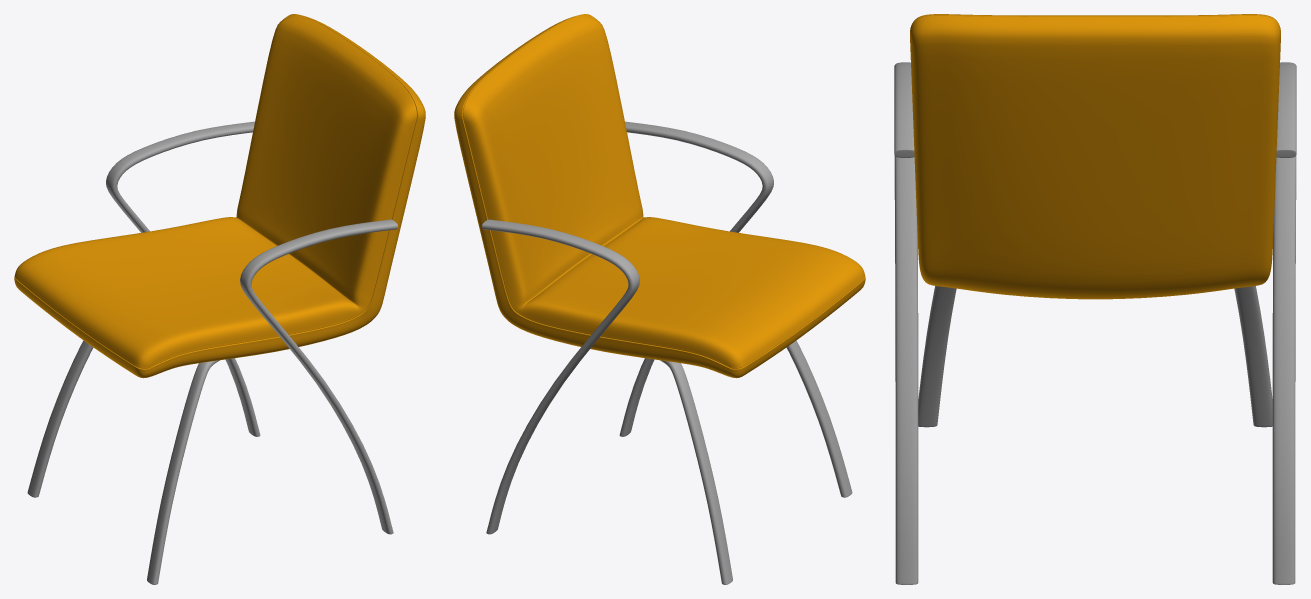
File: silla.fbx
3 renders of one model, left to right at view 1: azimuth 30°, elevation 25°; view 2: azimuth 150°, elevation 25°; view 3: azimuth 270°, elevation 25°, orthographic. The views are drawn at different scales.
Parts seen in each view (by area): view 1: gymnasium.748, gymnasium.746, gymnasium.749; view 2: gymnasium.748, gymnasium.746, gymnasium.749; view 3: gymnasium.748, gymnasium.746, gymnasium.749.
Part boxes in pixels (x1,y1,x2,y2): gymnasium.748: (14,14,425,378); gymnasium.746: (106,121,397,534); gymnasium.749: (27,340,219,584); gymnasium.748: (454,14,865,378); gymnasium.746: (482,121,773,534); gymnasium.749: (660,340,852,584); gymnasium.748: (910,14,1280,299); gymnasium.746: (894,62,1296,584); gymnasium.749: (918,286,1272,427).
Bounding box in the file's own units: 65.03 × 87.46 × 53.57.
